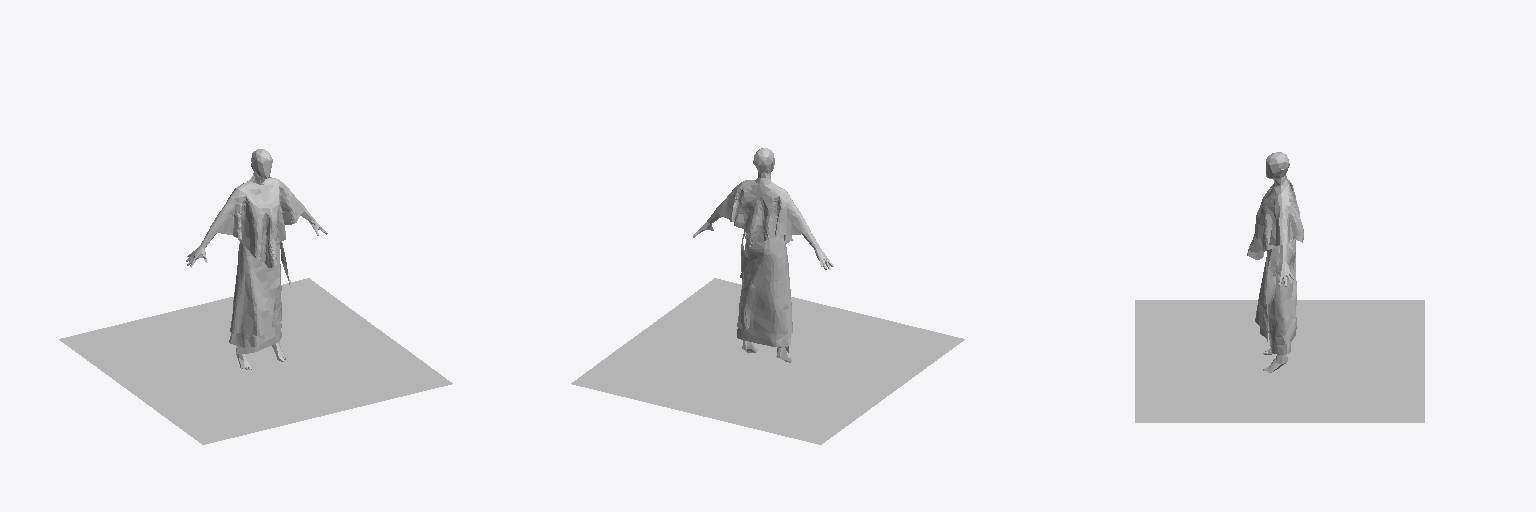
The model's file is wave9.obj.
3 views of the same model, side by side, from view 1: azimuth 30°, elevation 25°; view 2: azimuth 150°, elevation 25°; view 3: azimuth 270°, elevation 25° (orthographic).
Visible parts, largest first — view 1: Plane, TrajeTipico, Maniqui; view 2: Plane, TrajeTipico, Maniqui; view 3: Plane, TrajeTipico, Maniqui.
Boxes of the visible parts, <box> form: Plane: <box>59,278,452,444</box>; TrajeTipico: <box>210,177,304,353</box>; Maniqui: <box>186,149,327,369</box>; Plane: <box>571,278,964,444</box>; TrajeTipico: <box>716,180,810,352</box>; Maniqui: <box>693,148,833,362</box>; Plane: <box>1135,300,1424,422</box>; TrajeTipico: <box>1247,179,1303,354</box>; Maniqui: <box>1263,152,1294,372</box>.
Size of the model in its own units: 235 by 190 by 235.